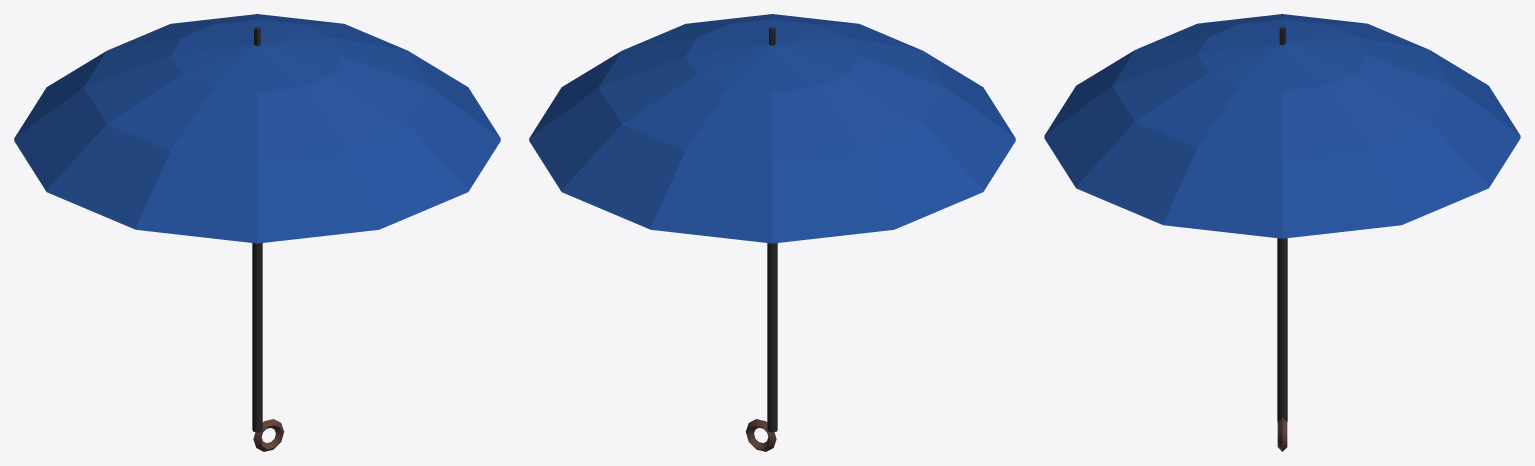
The model's file is npc_umbrella_open.glb.
3 views of the same model, side by side, from view 1: azimuth 30°, elevation 25°; view 2: azimuth 150°, elevation 25°; view 3: azimuth 270°, elevation 25° (orthographic). The views are drawn at different scales.
Parts seen in each view (by area): view 1: npc_umbrella_open; view 2: npc_umbrella_open; view 3: npc_umbrella_open.
Boxes of the visible parts, x1,y1,x2,y2 form: npc_umbrella_open: [14, 14, 500, 451]; npc_umbrella_open: [529, 14, 1015, 451]; npc_umbrella_open: [1044, 14, 1520, 451].
Size of the model in its own units: 1.12 by 1.08 by 1.12.
